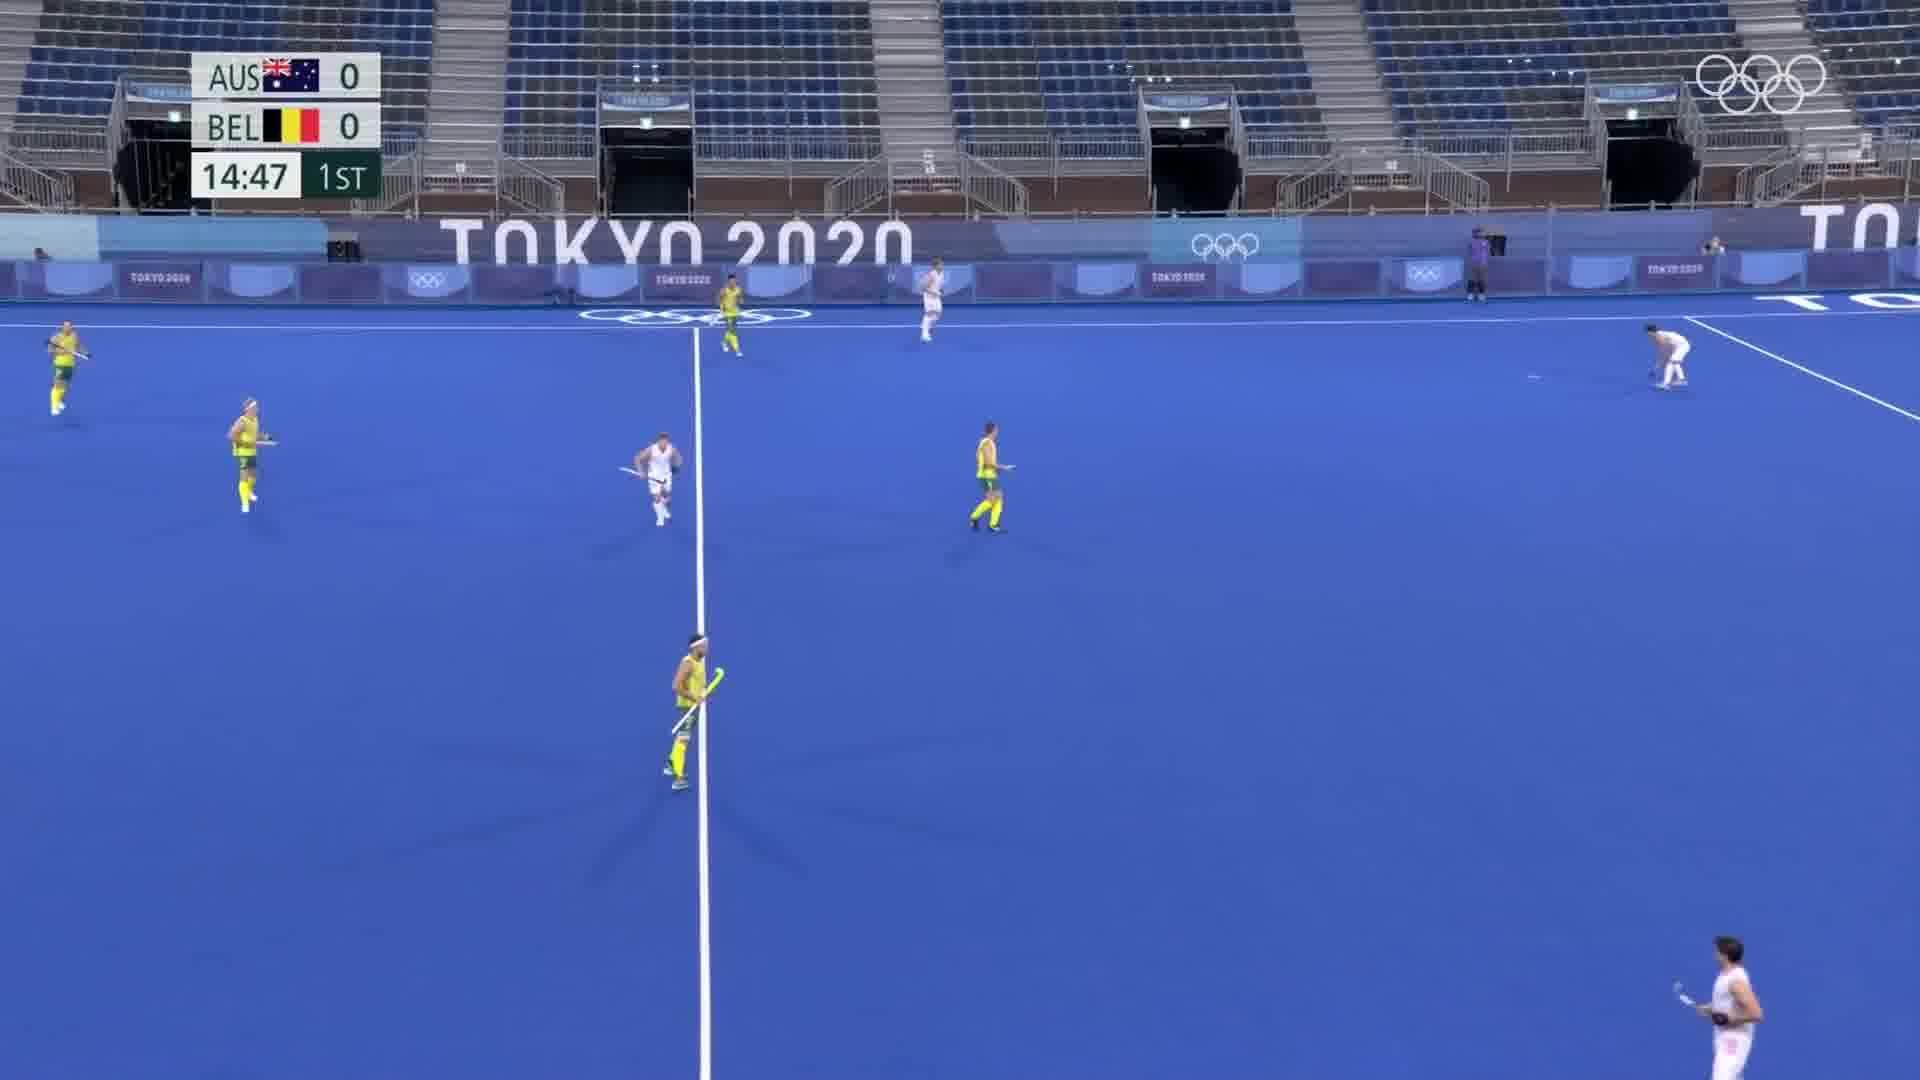ball: (1519, 367, 1552, 394)
